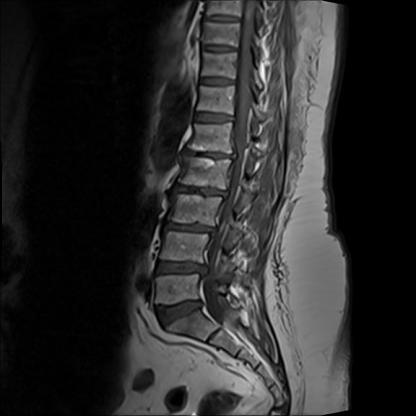Disc Bulgerotation: (168, 179, 233, 205), (152, 256, 215, 282), (159, 214, 224, 239), (176, 145, 241, 168)
